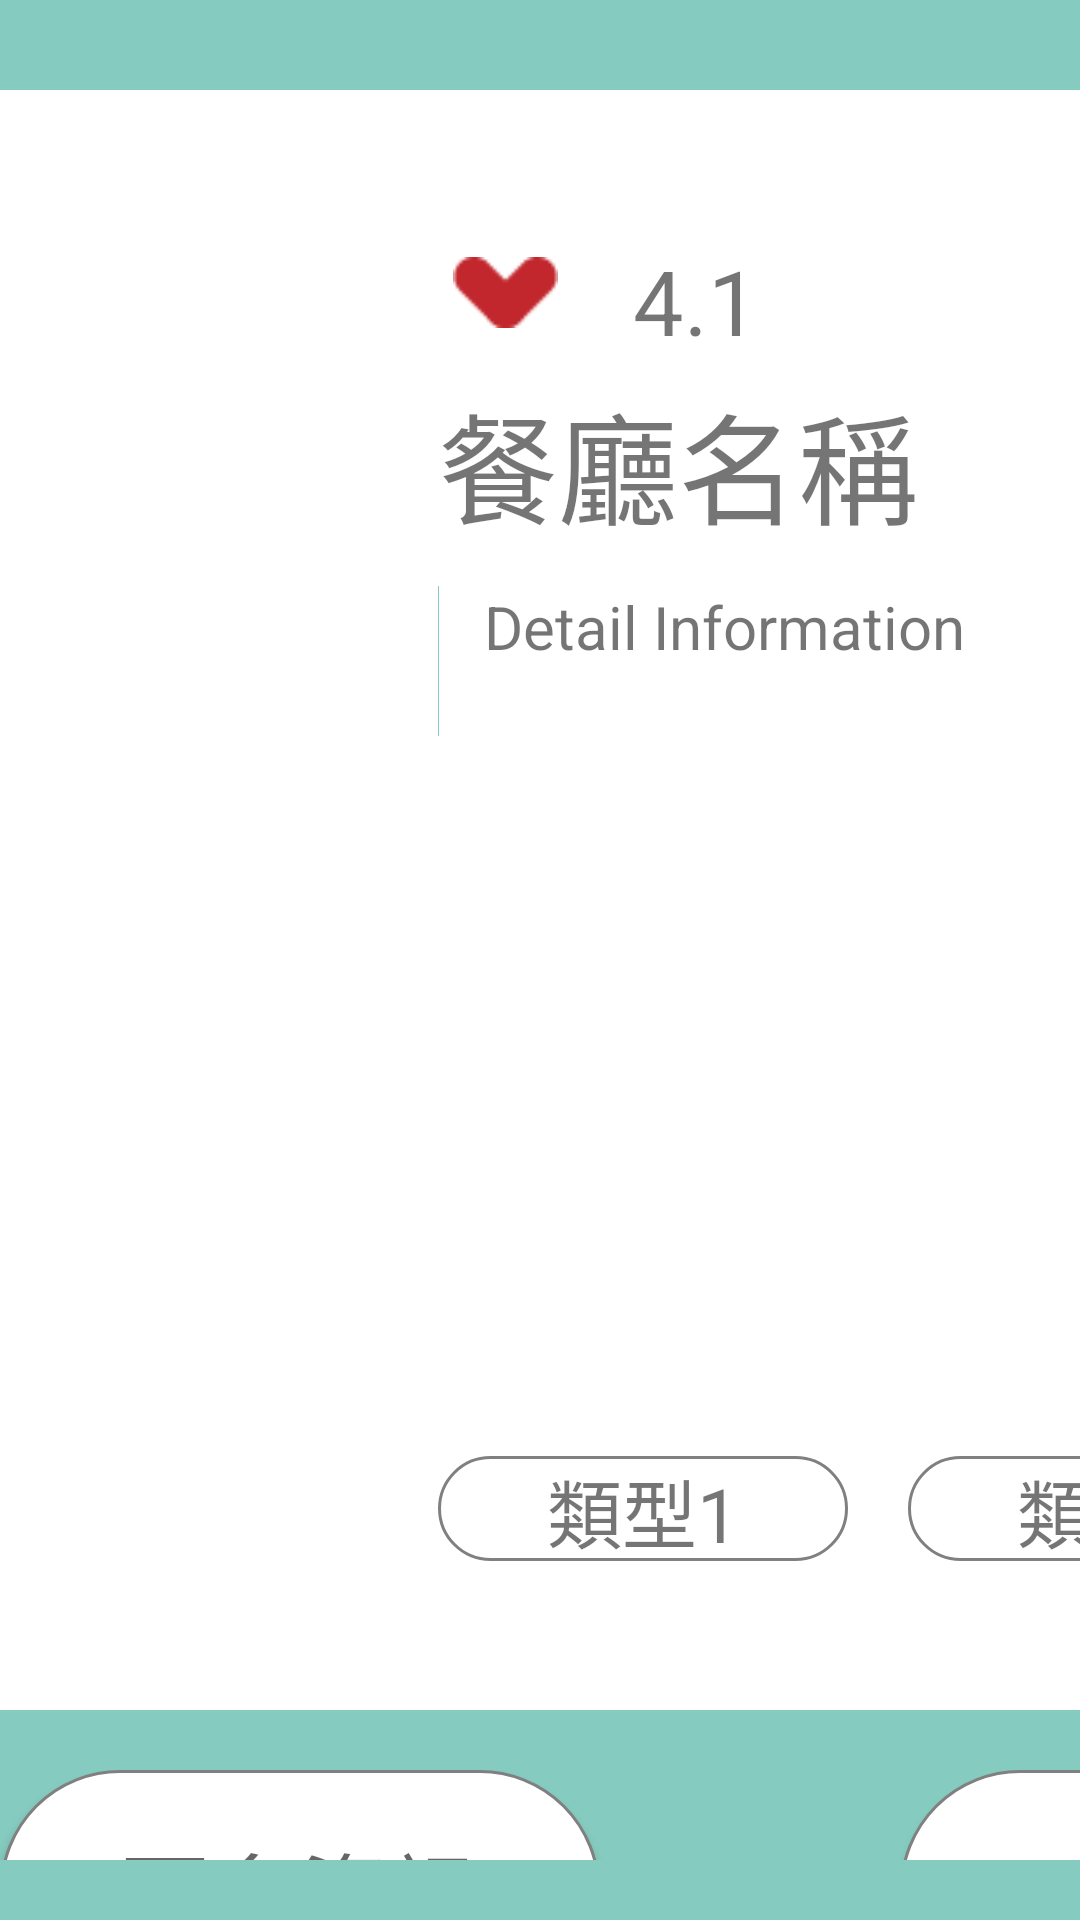

Point at icon controls on the screen. Image size 1080 x 1920, points as (x=x, y=y).
heart: (x=505, y=292)
